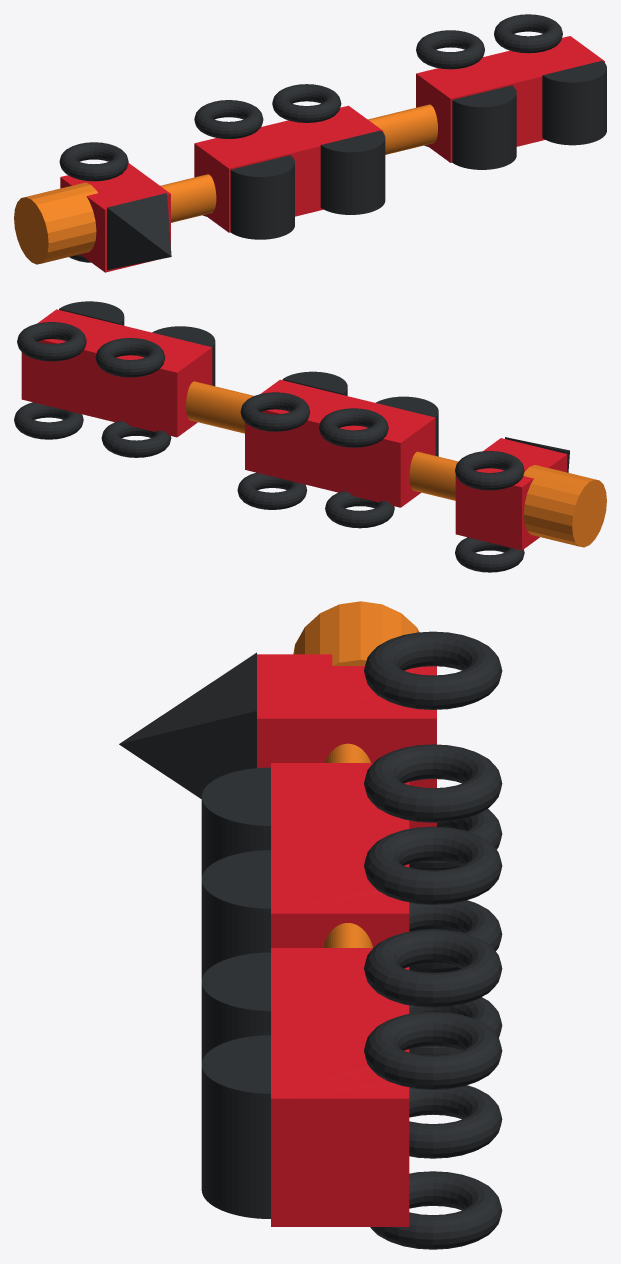
The model's file is tinker.obj.
3 views of the same model, one above another, from view 1: azimuth 30°, elevation 25°; view 2: azimuth 150°, elevation 25°; view 3: azimuth 270°, elevation 25° (orthographic). The views are drawn at different scales.
Parts seen in each view (by area): view 1: group_0_2829873, group_0_15277357, group_0_16089887; view 2: group_0_15277357, group_0_2829873, group_0_16089887; view 3: group_0_2829873, group_0_15277357, group_0_16089887.
Boxes of the visible parts, x1,y1,x2,y2 form: group_0_2829873: (59,14,606,270); group_0_15277357: (60,36,604,272); group_0_16089887: (14,104,437,264); group_0_15277357: (21,309,567,550); group_0_2829873: (14,301,569,572); group_0_16089887: (186,381,606,547); group_0_2829873: (119,631,502,1249); group_0_15277357: (257,654,436,1226); group_0_16089887: (293,601,419,947).
Bounding box in the file's own units: 184 × 39 × 55.46.
